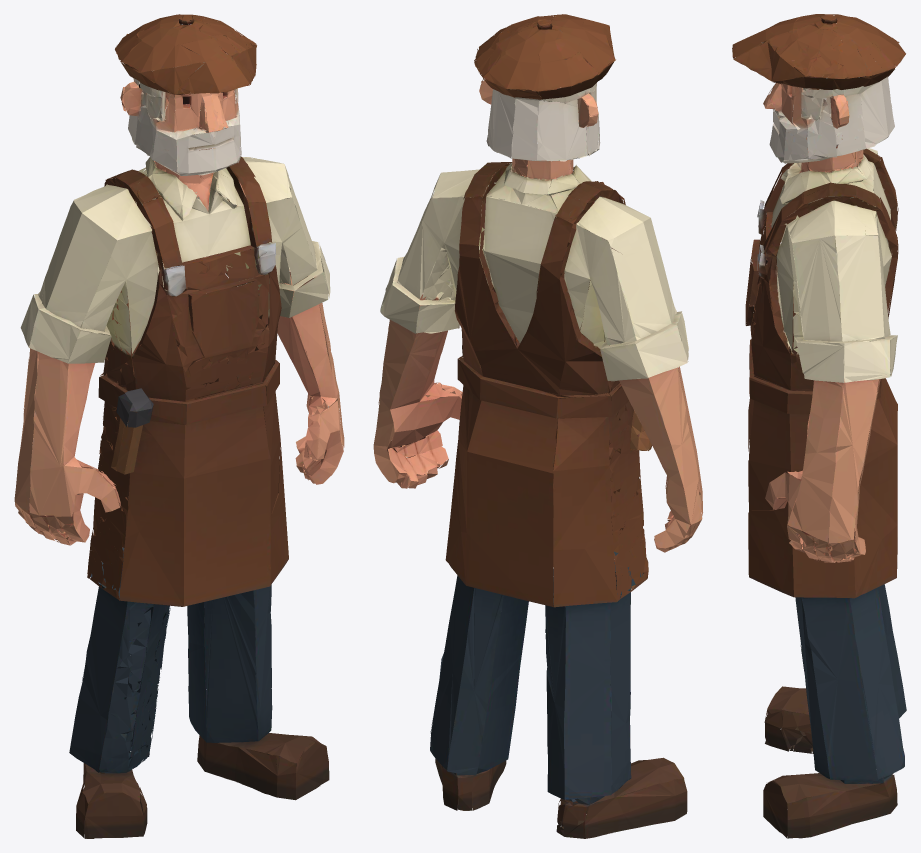
Rendered from habitant.glb.
3 views of the same model, side by side, from view 1: azimuth 30°, elevation 25°; view 2: azimuth 150°, elevation 25°; view 3: azimuth 270°, elevation 25° (orthographic).
Parts seen in each view (by area): view 1: world; view 2: world; view 3: world.
Part boxes in pixels (<box>): world: <box>14,14,344,838</box>; world: <box>373,14,702,838</box>; world: <box>732,14,906,838</box>.
Bounding box in the file's own units: 0.4292 × 1 × 0.2078.
Materials: 1 (1 with a texture image).
